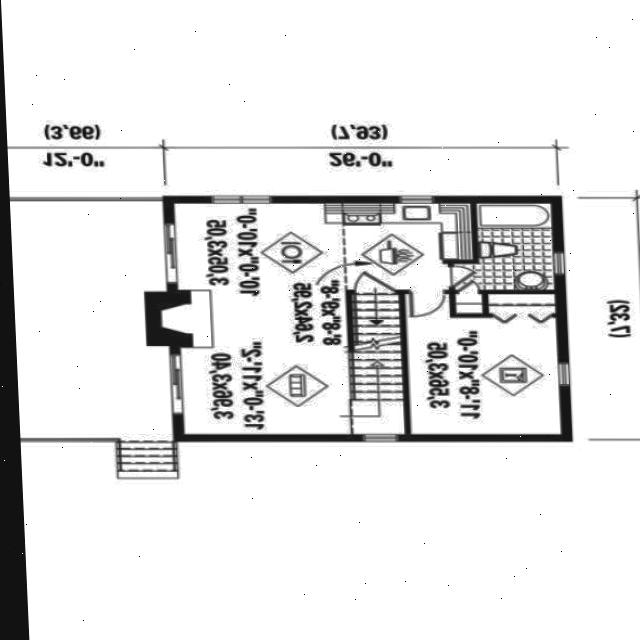room: (174, 203, 473, 434), (405, 295, 560, 434), (454, 203, 553, 290)
